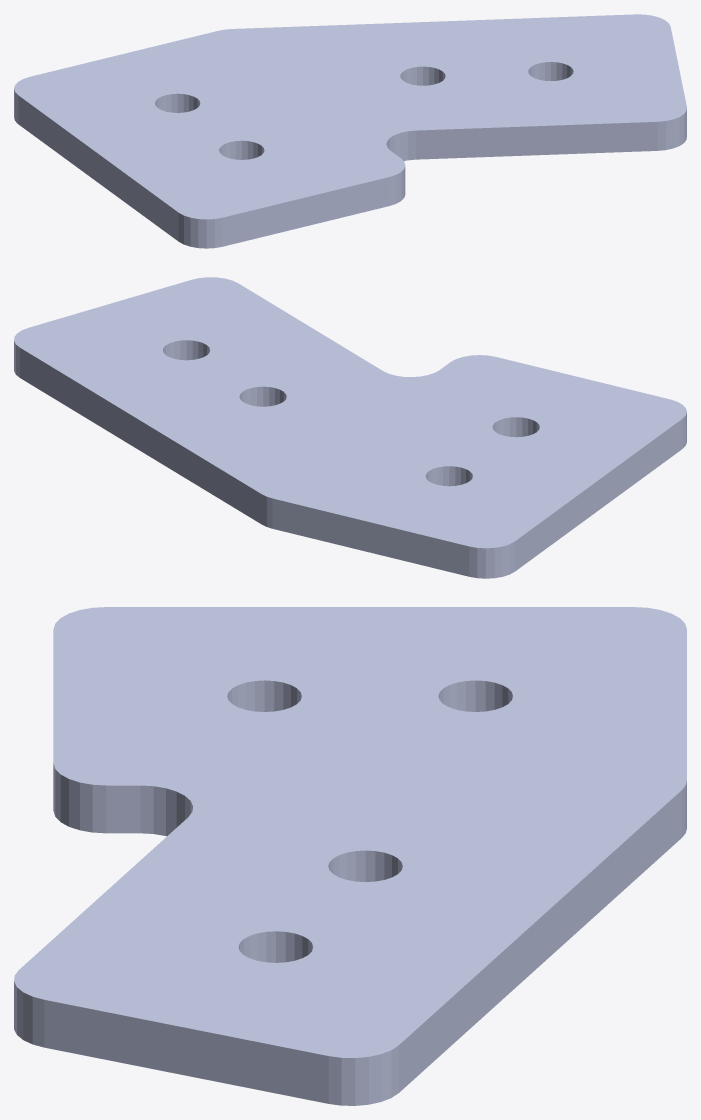
File: Lower_Triangle_Gusset_Plate_01_Lower_Triangle_Gusset_Plate.obj
3 renders of one model, top to bottom at view 1: azimuth 30°, elevation 25°; view 2: azimuth 150°, elevation 25°; view 3: azimuth 270°, elevation 25°, orthographic. The views are drawn at different scales.
Size of the model in its own units: 0.0642 by 0.00317 by 0.0405.
